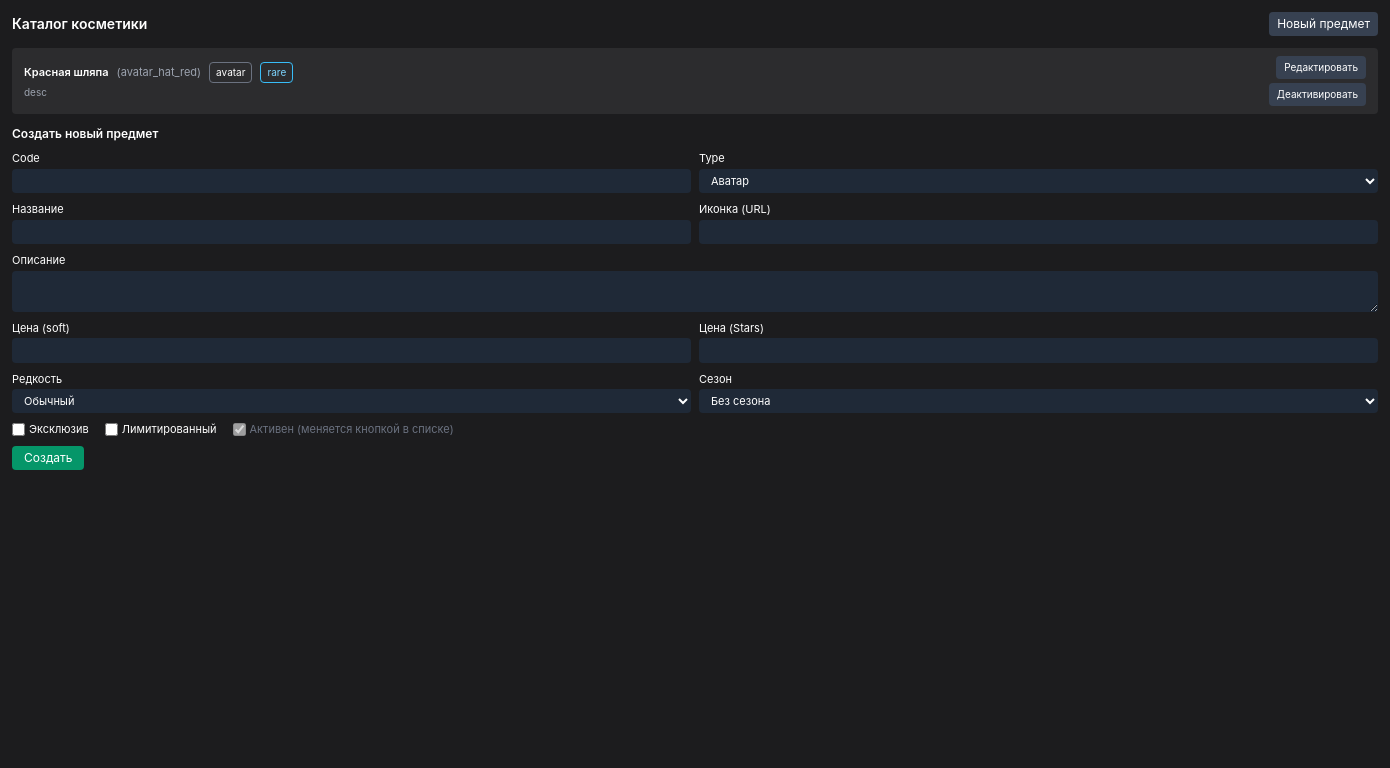
Test case: AdminCosmeticsSection › allows creating cosmetic item with rarity and flags
Type "new_item" into the field labelled "Code" at (352, 181), box x1=12 y1=168 x2=691 y2=193
Type "Новый предмет" into the field labelled "Название" at (352, 232), box x1=12 y1=220 x2=691 y2=244
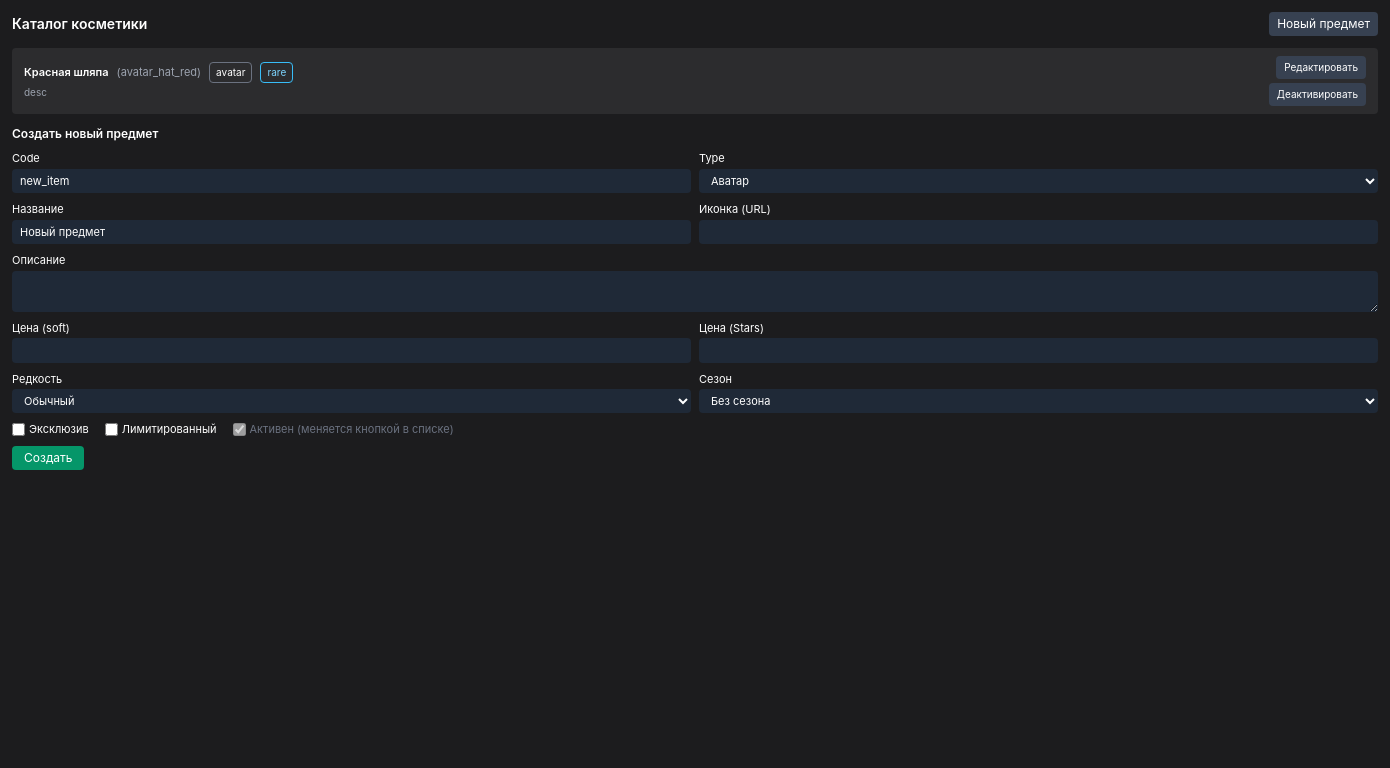
Select "Эпический" in the dropdown labelled "Редкость" at (352, 401), box x1=12 y1=389 x2=691 y2=413
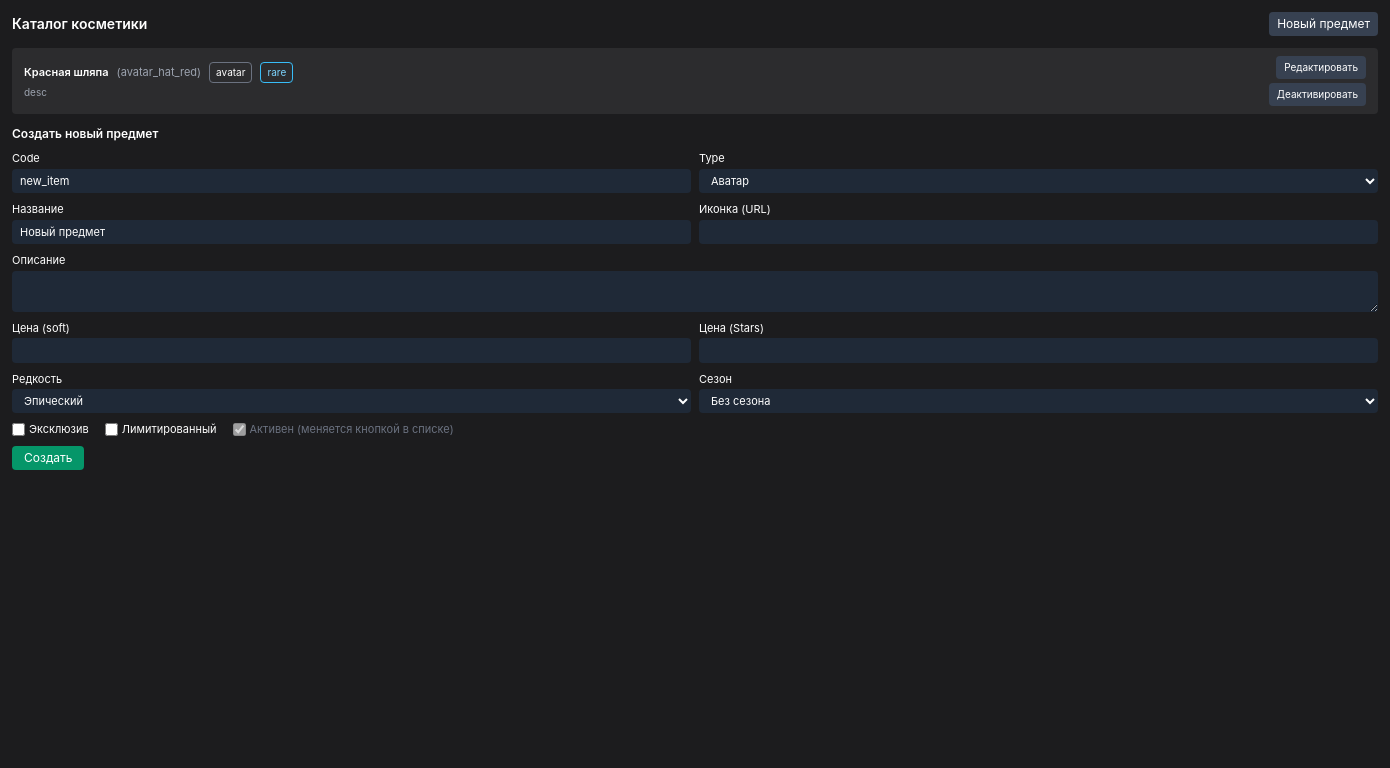
Click the checkbox labelled "Эксклюзив" at (18, 429), box x1=12 y1=423 x2=25 y2=436
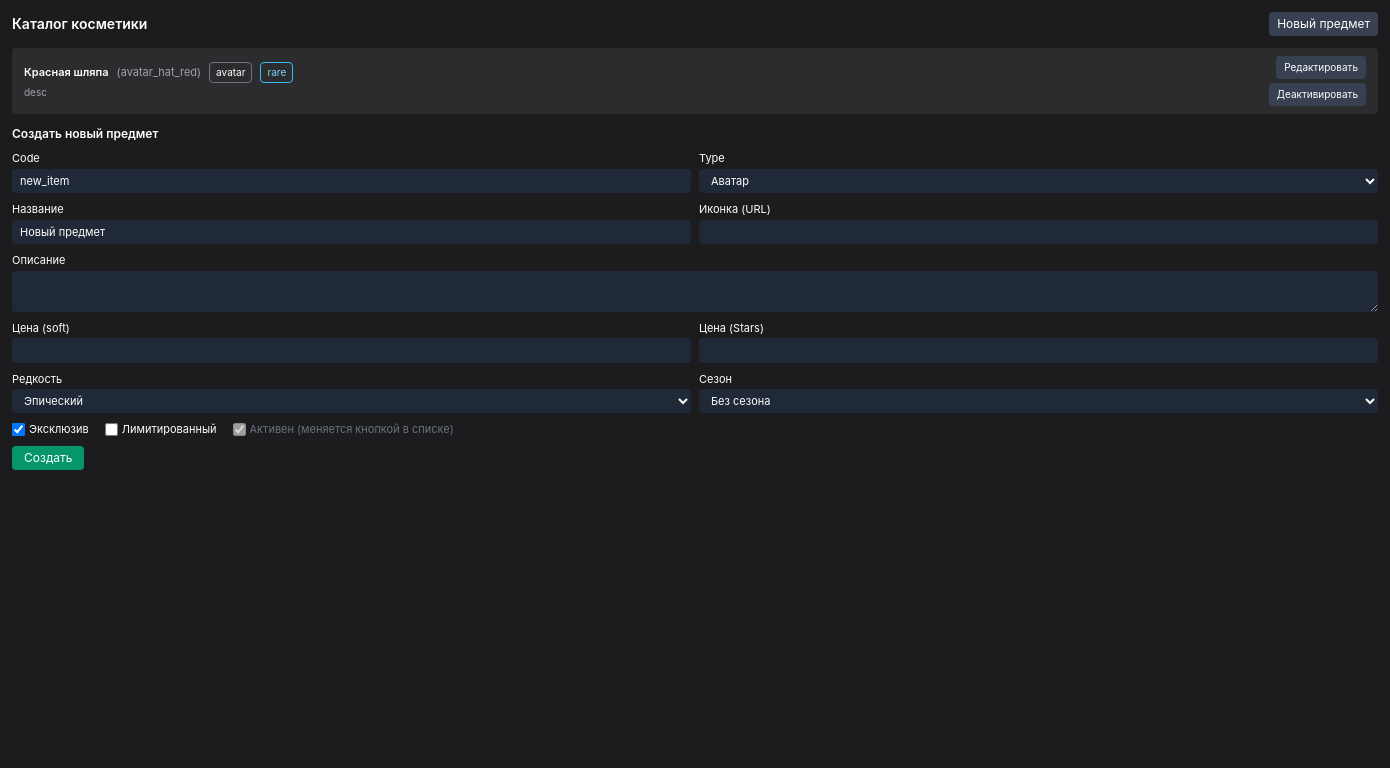
Click the checkbox labelled "Лимитированный" at (111, 429), box x1=105 y1=423 x2=118 y2=436
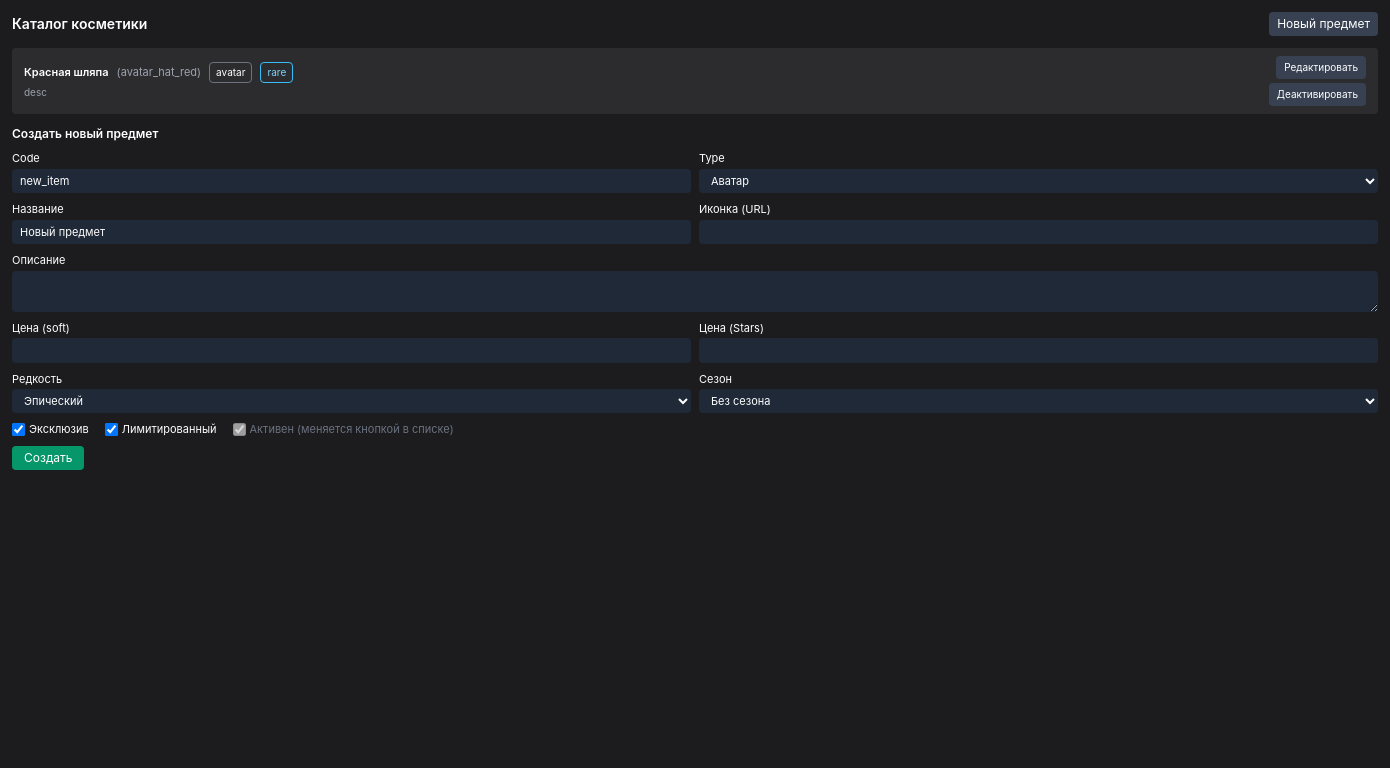
Select "Season 1" in the dropdown labelled "Сезон" at (1038, 401), box x1=699 y1=389 x2=1378 y2=413
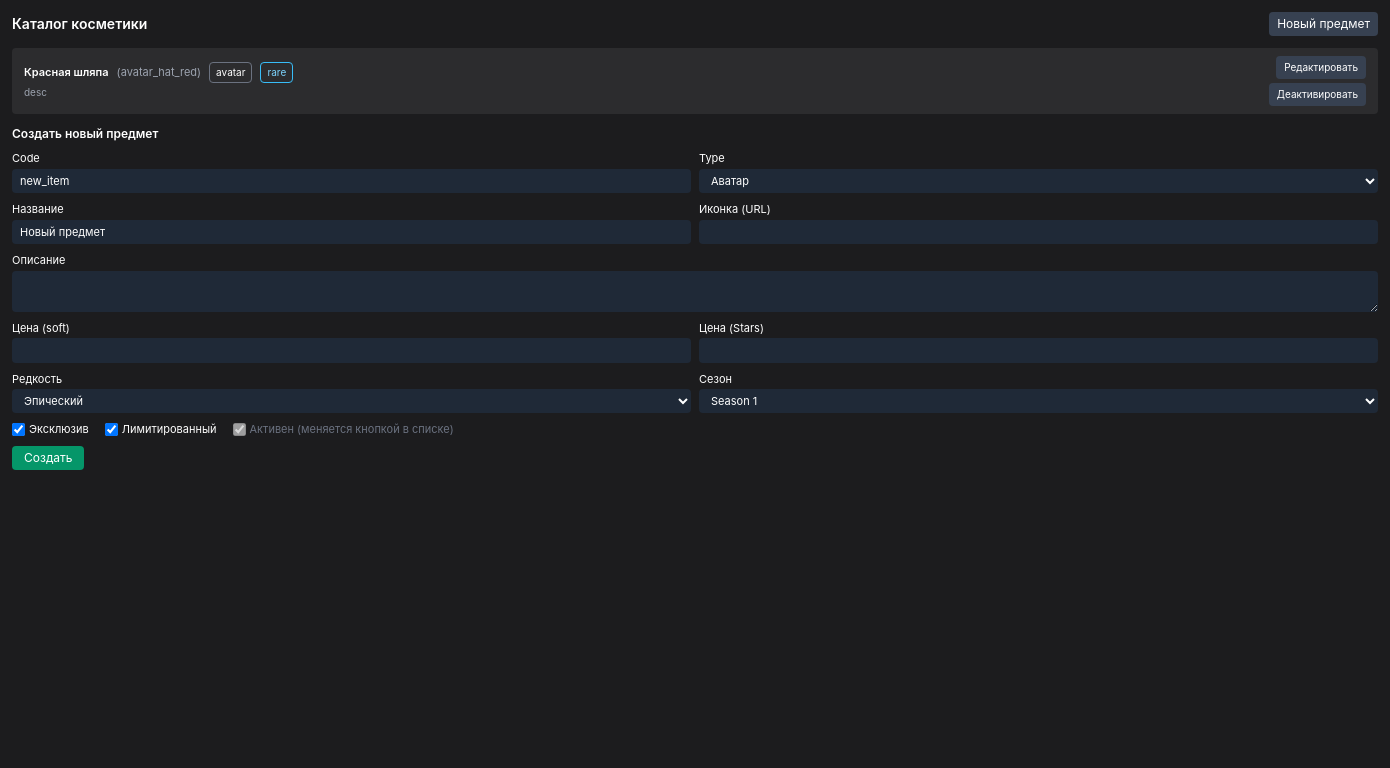
Submit the form named "Форма косметики", box x1=12 y1=126 x2=1378 y2=470
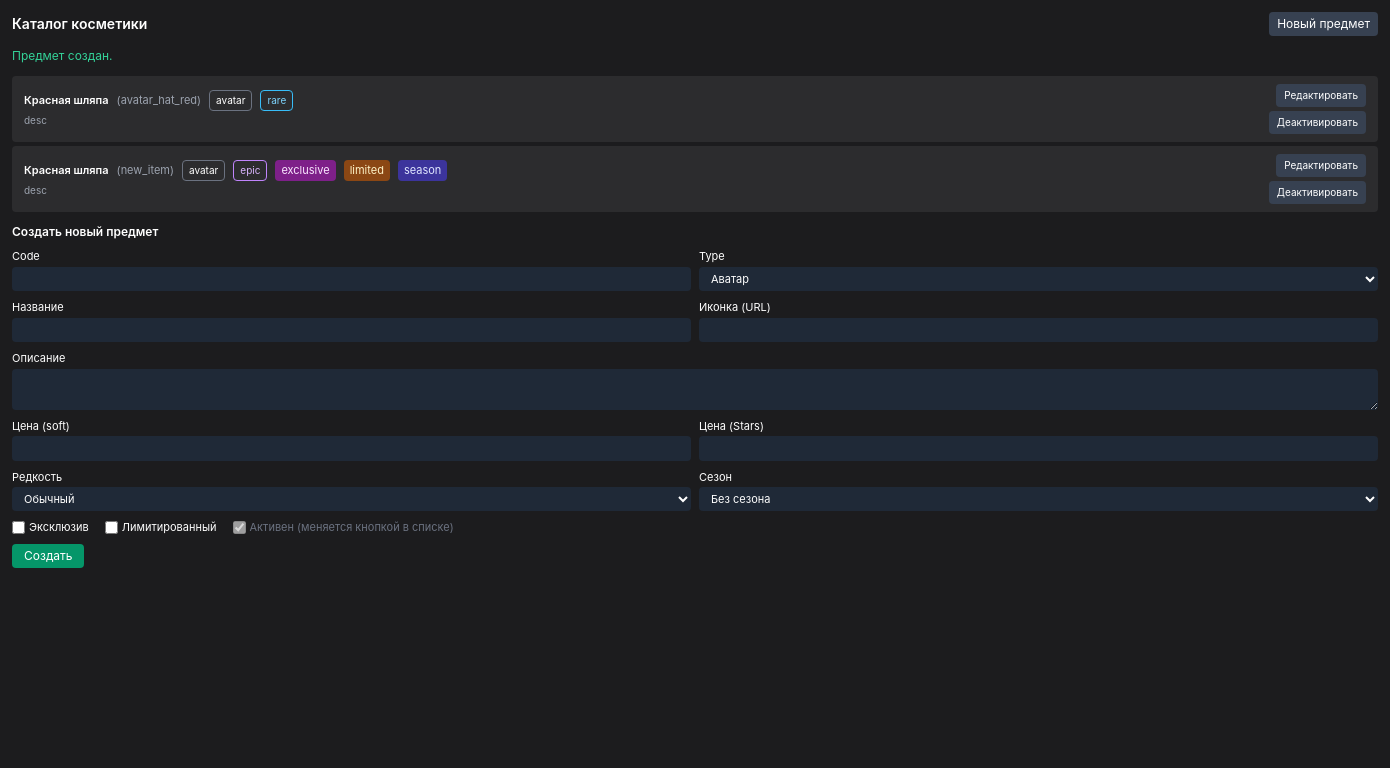
Result: the text "epic" is shown at x1=233 y1=160 x2=267 y2=181
